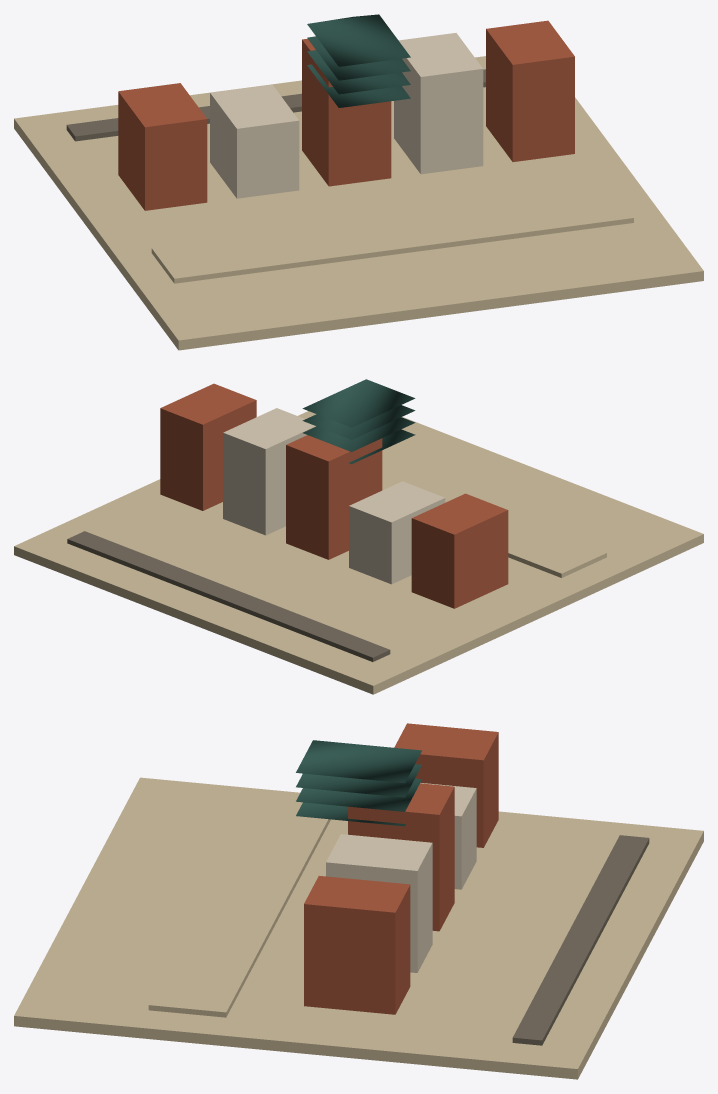
Rendered from model-medium.glb.
3 renders of one model, top to bottom at view 1: azimuth 30°, elevation 25°; view 2: azimuth 150°, elevation 25°; view 3: azimuth 270°, elevation 25°, orthographic. The views are drawn at different scales.
Parts seen in each view (by area): view 1: context_site_plinth, street_public_axis, street_facade_4, street_facade_3, street_facade_0, street_facade_1, street_facade_2, street_roof_2, street_roof_3, street_roof_0, front_scale_strip, street_roof_1; view 2: context_site_plinth, street_facade_0, street_facade_2, street_facade_4, street_facade_3, front_scale_strip, street_facade_1, street_public_axis, street_roof_2, street_roof_3, street_roof_0; view 3: context_site_plinth, street_public_axis, street_facade_4, front_scale_strip, street_facade_0, street_facade_3, street_facade_2, street_roof_2, street_facade_1, street_roof_3, street_roof_0, street_roof_1.
Part boxes in pixels (bbox=[...]): context_site_plinth: bbox=[14, 56, 703, 350]; street_public_axis: bbox=[151, 187, 633, 283]; street_facade_4: bbox=[486, 20, 574, 161]; street_facade_3: bbox=[394, 33, 483, 174]; street_facade_0: bbox=[118, 83, 207, 210]; street_facade_1: bbox=[210, 84, 299, 198]; street_facade_2: bbox=[302, 38, 391, 186]; street_roof_2: bbox=[307, 14, 410, 66]; street_roof_3: bbox=[307, 30, 410, 80]; street_roof_0: bbox=[307, 50, 410, 94]; front_scale_strip: bbox=[66, 69, 485, 141]; street_roof_1: bbox=[307, 64, 410, 107]; context_site_plinth: bbox=[14, 411, 703, 694]; street_facade_0: bbox=[411, 493, 508, 608]; street_facade_2: bbox=[286, 435, 382, 559]; street_facade_4: bbox=[160, 383, 256, 510]; street_facade_3: bbox=[223, 408, 315, 535]; front_scale_strip: bbox=[67, 531, 390, 661]; street_facade_1: bbox=[349, 481, 445, 584]; street_public_axis: bbox=[382, 465, 606, 577]; street_roof_2: bbox=[302, 379, 415, 427]; street_roof_3: bbox=[302, 405, 415, 439]; street_roof_0: bbox=[303, 417, 415, 451]; context_site_plinth: bbox=[14, 777, 703, 1079]; street_public_axis: bbox=[148, 796, 330, 1017]; street_facade_4: bbox=[304, 876, 410, 1014]; front_scale_strip: bbox=[512, 835, 649, 1045]; street_facade_0: bbox=[394, 723, 498, 847]; street_facade_3: bbox=[326, 834, 432, 972]; street_facade_2: bbox=[348, 783, 454, 931]; street_roof_2: bbox=[296, 740, 421, 783]; street_facade_1: bbox=[420, 783, 476, 889]; street_roof_3: bbox=[296, 764, 421, 797]; street_roof_0: bbox=[296, 778, 421, 811]; street_roof_1: bbox=[296, 802, 405, 826].
Size of the model in its own units: 9.55 by 2.89 by 9.55.
